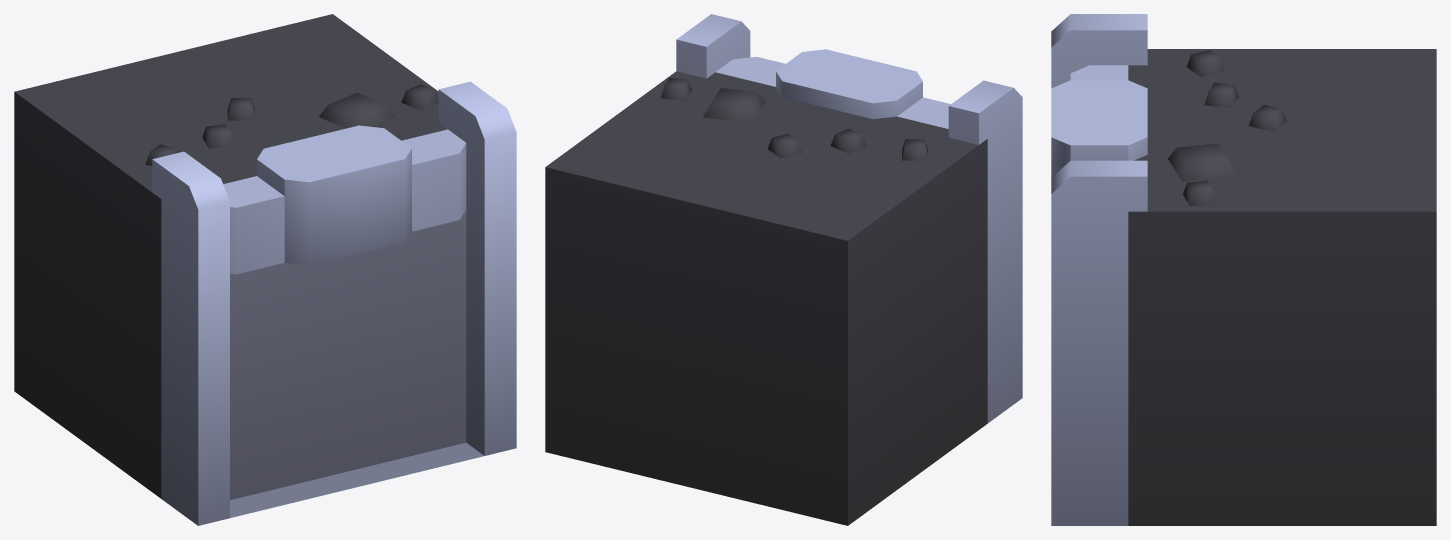
The model's file is wall-half.obj.
3 renders of one model, left to right at view 1: azimuth 30°, elevation 25°; view 2: azimuth 150°, elevation 25°; view 3: azimuth 270°, elevation 25°, orthographic. The views are drawn at different scales.
Visible parts, largest first — view 1: wall-half; view 2: wall-half; view 3: wall-half.
Part boxes in pixels (x1,y1,x2,y2): wall-half: (14,14,516,525); wall-half: (545,14,1022,525); wall-half: (1051,14,1436,525).
Size of the model in its own units: 1 by 1 by 1.
Materials: 1 (1 with a texture image).
